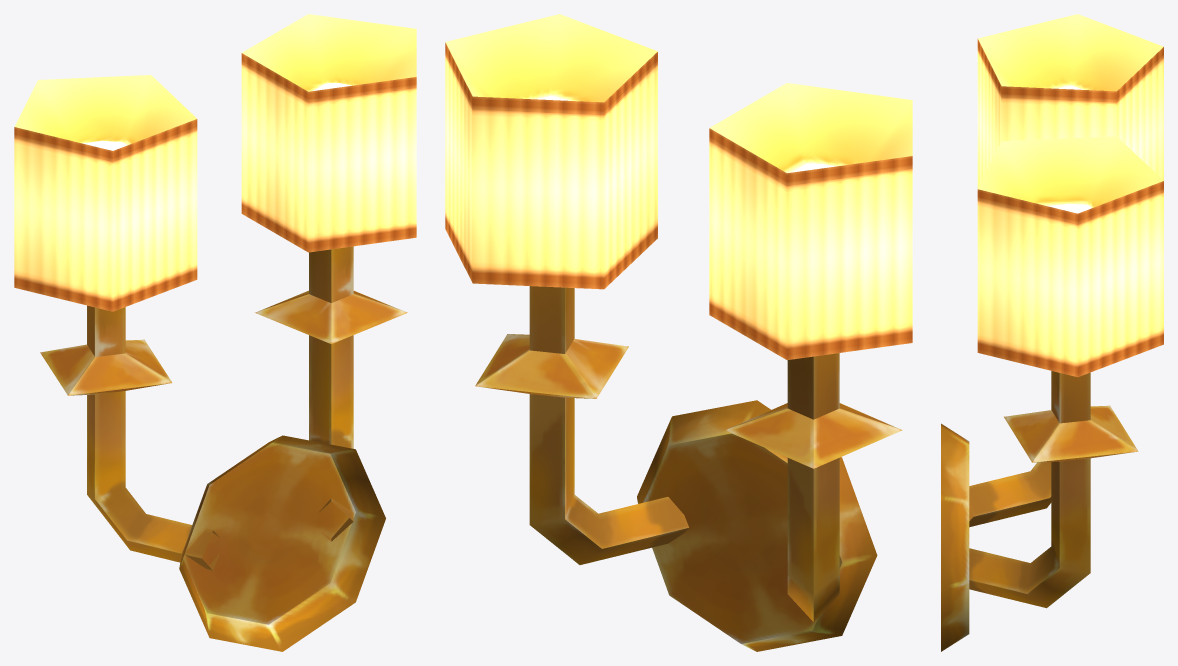
Rendered from ELT0110012.fbx.
3 views of the same model, side by side, from view 1: azimuth 30°, elevation 25°; view 2: azimuth 150°, elevation 25°; view 3: azimuth 270°, elevation 25° (orthographic). The views are drawn at different scales.
Visible parts, largest first — view 1: smELT0110012; view 2: smELT0110012; view 3: smELT0110012.
Boxes of the visible parts, x1,y1,x2,y2 form: smELT0110012: (14, 14, 416, 651); smELT0110012: (445, 14, 912, 651); smELT0110012: (941, 14, 1163, 651).
Bounding box in the file's own units: 45.7 × 57 × 21.55.
Materials: 1 (1 with a texture image).
